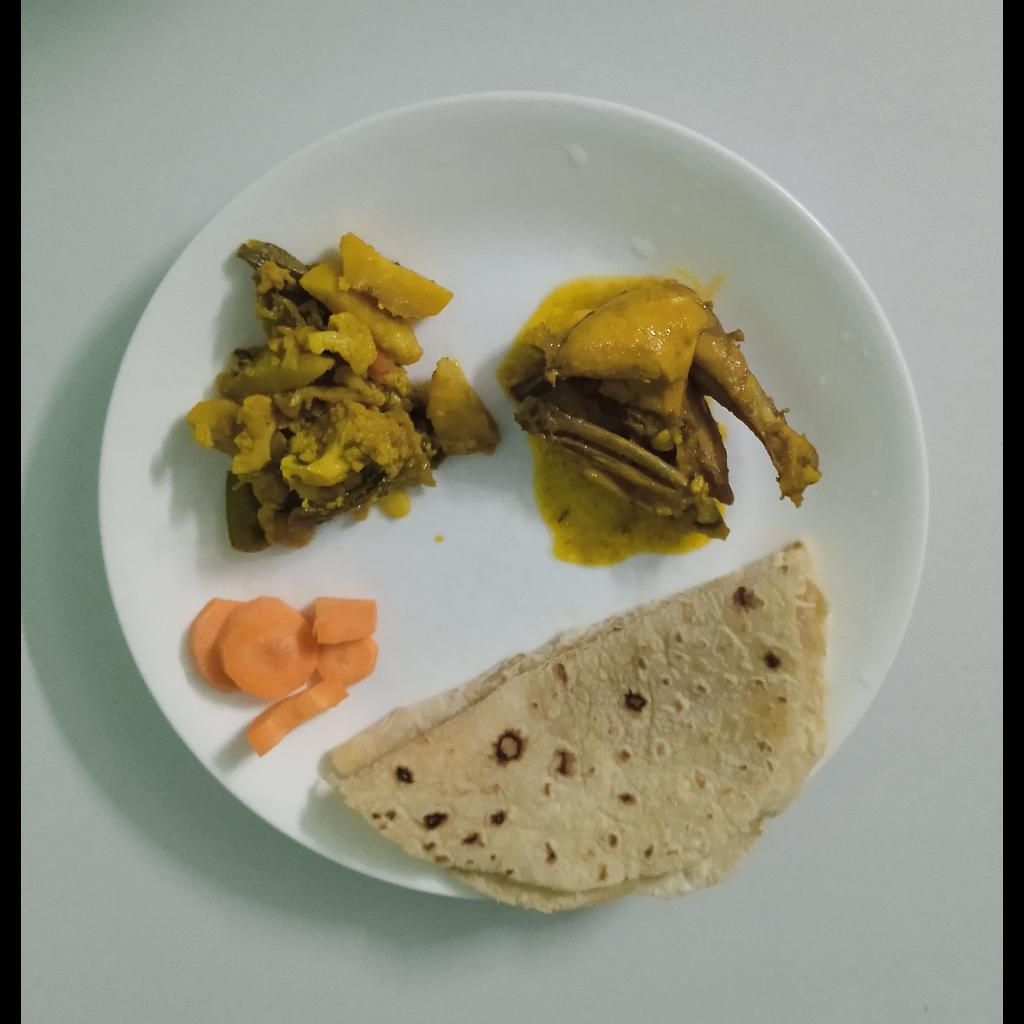carrot: (186, 596, 379, 759)
chicken: (498, 279, 824, 528)
ruti: (330, 540, 827, 915)
vegetable: (190, 231, 501, 554)
